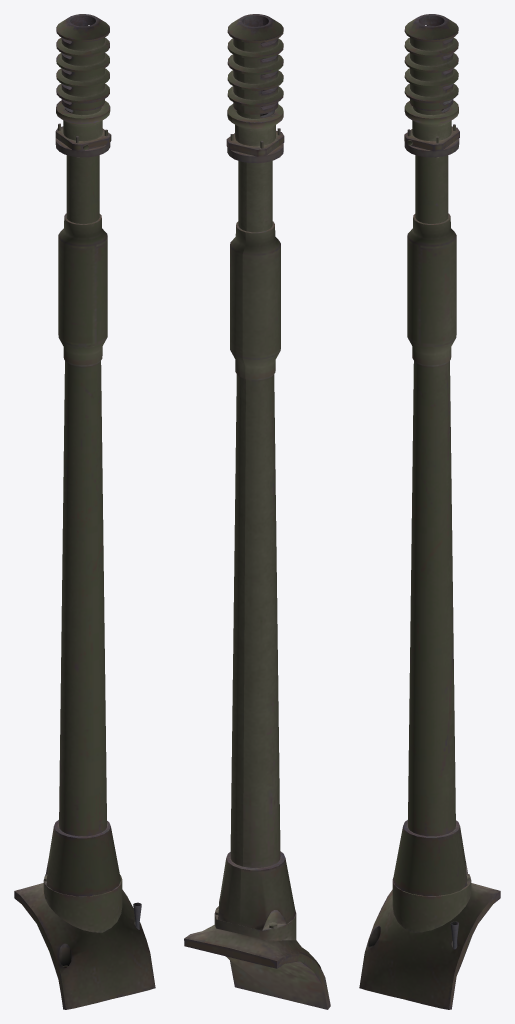
Rendered from Gun_01.glb.
3 renders of one model, left to right at view 1: azimuth 30°, elevation 25°; view 2: azimuth 150°, elevation 25°; view 3: azimuth 330°, elevation 25°, orthographic. The views are drawn at different scales.
Visible parts, largest first — view 1: set_0_group_0; view 2: set_0_group_0; view 3: set_0_group_0.
Part boxes in pixels (x1,y1,x2,y2): set_0_group_0: [14, 14, 155, 1009]; set_0_group_0: [184, 14, 330, 1009]; set_0_group_0: [359, 14, 500, 1009].
Size of the model in its own units: 0.4971 by 5.09 by 0.5059.
Materials: 1 (1 with a texture image).
